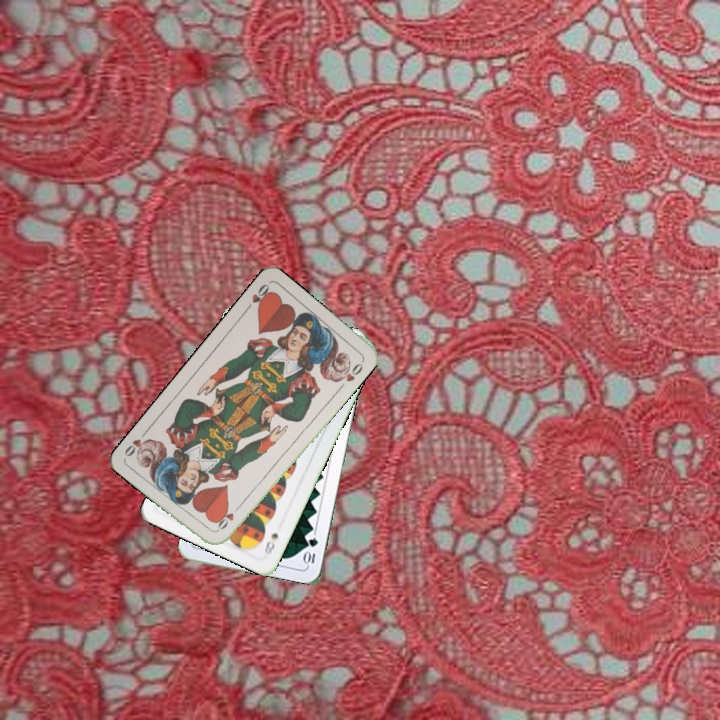G10: (301, 533, 321, 568)
HO: (241, 280, 274, 313), (213, 501, 244, 534)
S8: (260, 529, 281, 558)
